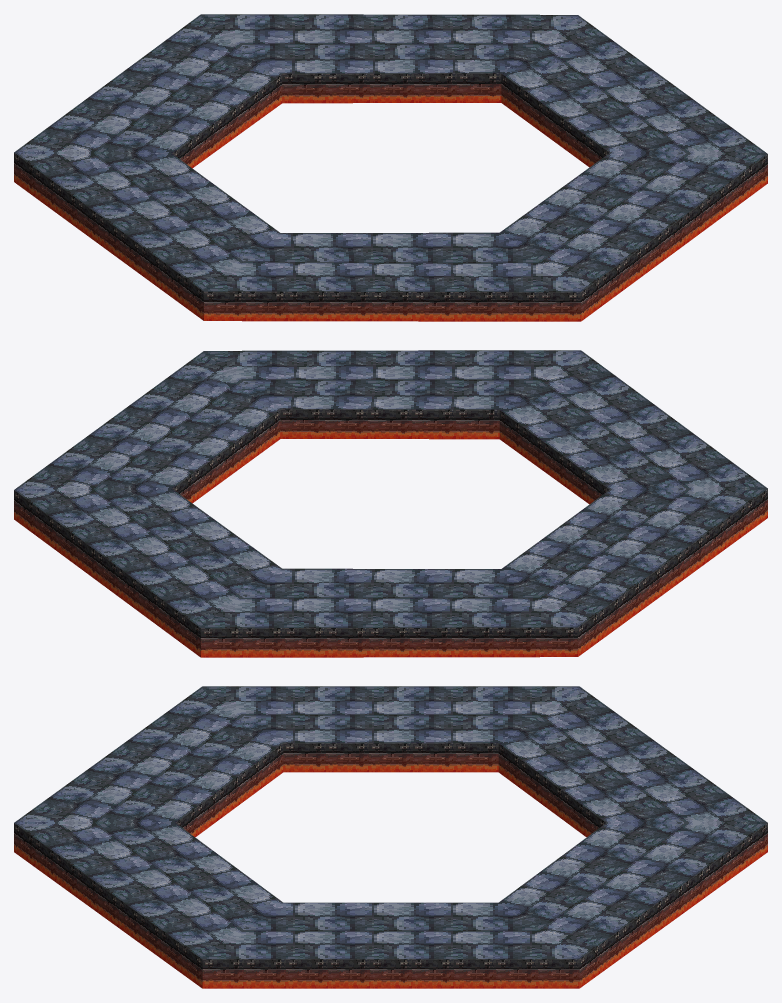
The model's file is fl_ring.glb.
The picture shows the model from 3 angles, top to bottom: view 1: azimuth 30°, elevation 25°; view 2: azimuth 150°, elevation 25°; view 3: azimuth 270°, elevation 25°; orthographic projection.
Parts seen in each view (by area): view 1: fl_ring; view 2: fl_ring; view 3: fl_ring.
Part boxes in pixels (left/top/right/bottom): fl_ring: left=14, top=14, right=767, bottom=321; fl_ring: left=14, top=350, right=767, bottom=657; fl_ring: left=14, top=686, right=767, bottom=988.
Bounding box in the file's own units: 11.72 × 0.5859 × 13.67.
Materials: 2 (2 with a texture image).
